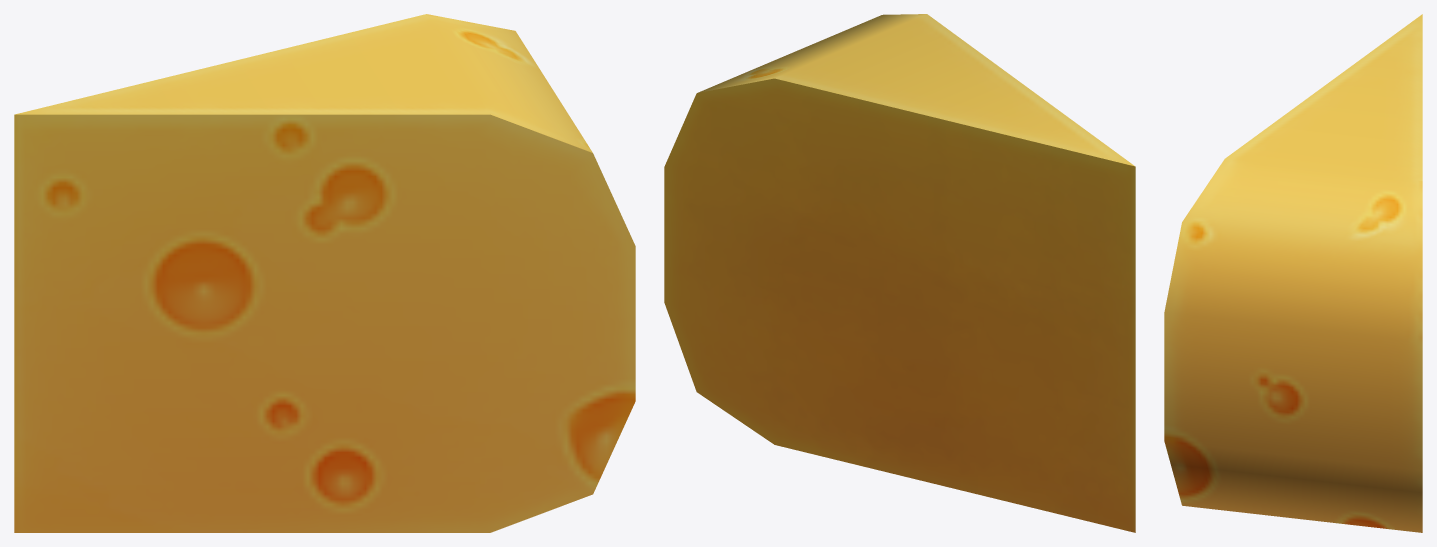
The model's file is SE_Cheese_04.fbx.
The picture shows the model from 3 angles, left to right: view 1: azimuth 30°, elevation 25°; view 2: azimuth 150°, elevation 25°; view 3: azimuth 270°, elevation 25°; orthographic projection. The views are drawn at different scales.
Parts seen in each view (by area): view 1: SE_Cheese_04; view 2: SE_Cheese_04; view 3: SE_Cheese_04.
Part boxes in pixels (x1=…): SE_Cheese_04: x1=14, y1=14, x2=635, y2=532; SE_Cheese_04: x1=664, y1=14, x2=1135, y2=532; SE_Cheese_04: x1=1164, y1=14, x2=1422, y2=532.
Size of the model in its own units: 0.9654 by 0.7172 by 0.4827.
